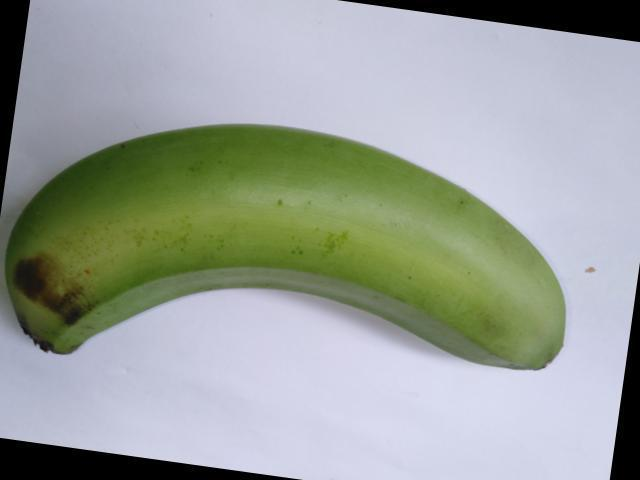freshunripe: (0, 99, 590, 376)
